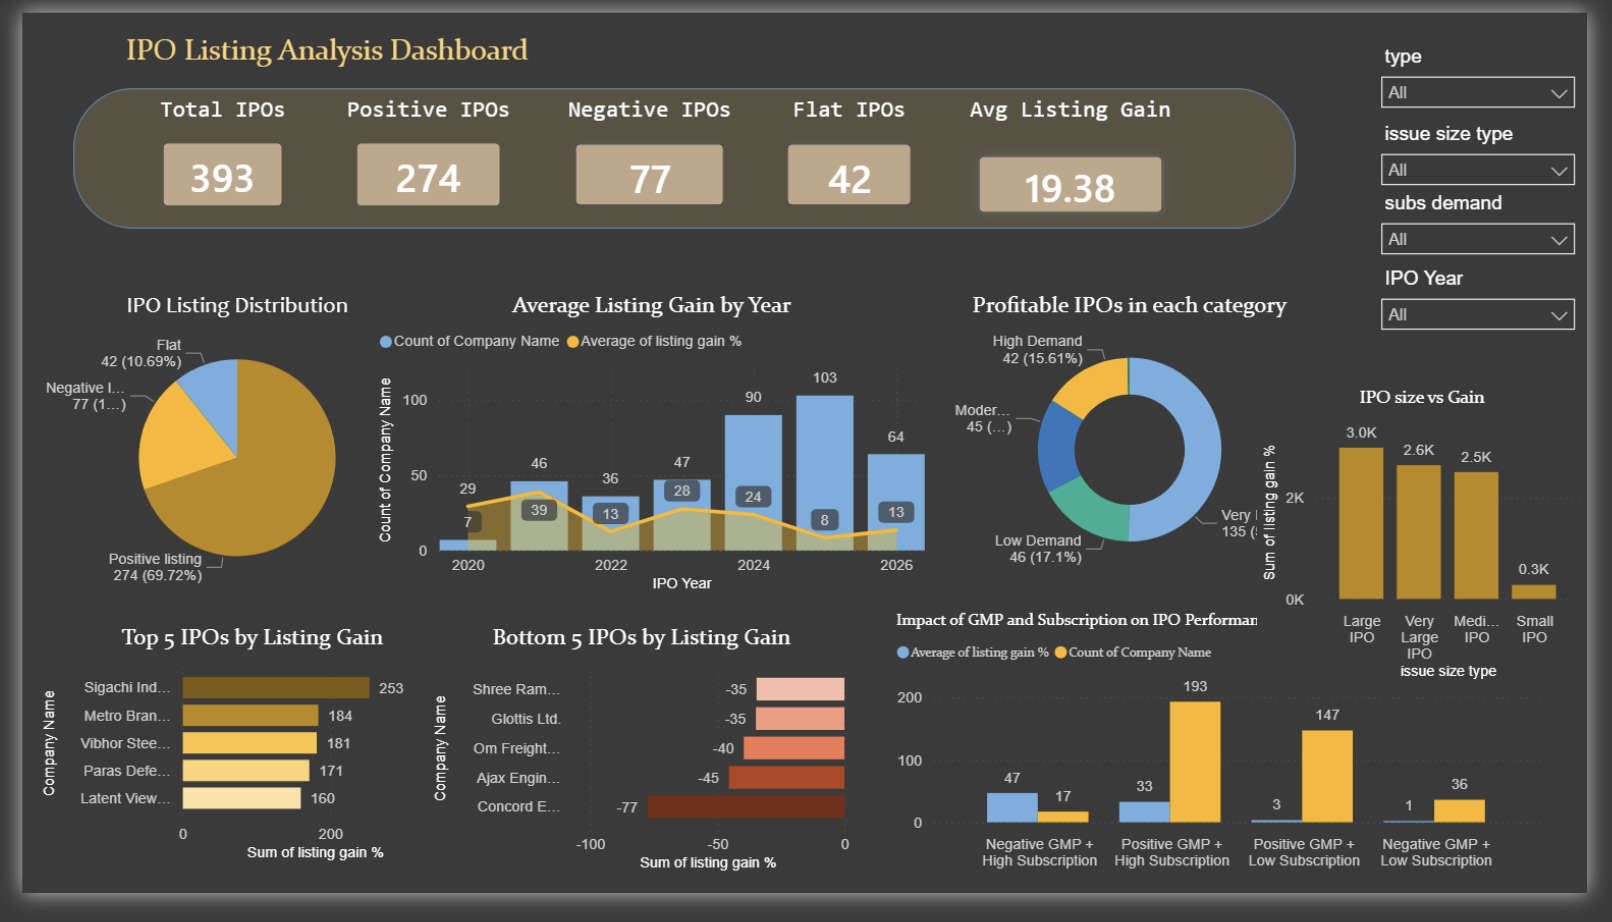

The page's visual inventory and layout, read from the dashboard file:
{"tool":"powerbi","page":{"name":"Page 1","canvas":[1280,720],"ordinal":0},"visuals":[{"type":"shape","box":[41.7,61.7,1000,115],"z":0},{"type":"cardVisual","title":"Total IPOs","fields":{"Data":["Count(IPO_Ana - mainboard_ipos_2025_2026_filter.Company Name)"]},"box":[98.3,68.3,131.7,106.7],"z":1000},{"type":"cardVisual","title":"Avg Listing Gain","fields":{"Data":["IPO_Ana - mainboard_ipos_2025_2026_filter.Average Listing Gain"]},"box":[755,68.3,205,123.3],"z":2000},{"type":"cardVisual","title":"Positive IPOs","fields":{"Data":["IPO_Ana - mainboard_ipos_2025_2026_filter.Positive IPOs"]},"box":[256.7,68.3,151.7,106.7],"z":3000},{"type":"cardVisual","title":"Negative IPOs","fields":{"Data":["IPO_Ana - mainboard_ipos_2025_2026_filter.Negative IPOs"]},"box":[435,68.3,156.7,106.7],"z":4000},{"type":"cardVisual","title":"Flat IPOs","fields":{"Data":["IPO_Ana - mainboard_ipos_2025_2026_filter.Flat IPOs"]},"box":[608.3,68.3,136.7,106.7],"z":5000},{"type":"pieChart","title":"IPO Listing Distribution ","fields":{"Category":["IPO_Ana - mainboard_ipos_2025_2026_filter.type"],"Y":["CountNonNull(IPO_Ana - mainboard_ipos_2025_2026_filter.Company Name)"]},"box":[11.7,226.7,328.3,251.7],"z":5001},{"type":"lineStackedColumnComboChart","title":"Average Listing Gain by Year","fields":{"Category":["IPO_Ana - mainboard_ipos_2025_2026_filter.IPO Year"],"Y":["CountNonNull(IPO_Ana - mainboard_ipos_2025_2026_filter.Company Name)"],"Y2":["Avg(IPO_Ana - mainboard_ipos_2025_2026_filter.listing gain %)"]},"box":[286.7,226.7,456.7,251.7],"z":5002},{"type":"barChart","title":"Top 5 IPOs by Listing Gain","fields":{"Category":["IPO_Ana - mainboard_ipos_2025_2026_filter.Company Name"],"Y":["Sum(IPO_Ana - mainboard_ipos_2025_2026_filter.listing gain %)"]},"box":[11.7,498.3,353.3,200],"z":5004},{"type":"barChart","title":"Bottom 5 IPOs by Listing Gain","fields":{"Category":["IPO_Ana - mainboard_ipos_2025_2026_filter.Company Name"],"Y":["Sum(IPO_Ana - mainboard_ipos_2025_2026_filter.listing gain %)"]},"box":[331.7,498.3,350,208.3],"z":5005},{"type":"donutChart","title":"Profitable IPOs in each category","fields":{"Category":["IPO_Ana - mainboard_ipos_2025_2026_filter.subs demand"],"Y":["Count(IPO_Ana - mainboard_ipos_2025_2026_filter.listing gain %)"]},"box":[755,226.7,301.7,238.3],"z":5006},{"type":"clusteredColumnChart","title":"Impact of GMP and Subscription on IPO Performance","fields":{"Category":["IPO_Ana - mainboard_ipos_2025_2026_filter.gmp+subs"],"Y":["Avg(IPO_Ana - mainboard_ipos_2025_2026_filter.listing gain %)","CountNonNull(IPO_Ana - mainboard_ipos_2025_2026_filter.Company Name)"]},"box":[710,488.3,538.3,220],"z":5007},{"type":"columnChart","title":"IPO size vs Gain","fields":{"Category":["IPO_Ana - mainboard_ipos_2025_2026_filter.issue size type"],"Y":["Sum(IPO_Ana - mainboard_ipos_2025_2026_filter.listing gain %)"]},"box":[1010,305,270,245],"z":5008},{"type":"slicer","fields":{"Values":["IPO_Ana - mainboard_ipos_2025_2026_filter.type"]},"box":[1101.7,21.7,178.3,80],"z":5009},{"type":"slicer","fields":{"Values":["IPO_Ana - mainboard_ipos_2025_2026_filter.issue size type"]},"box":[1101.7,85,178.3,70],"z":5010},{"type":"slicer","fields":{"Values":["IPO_Ana - mainboard_ipos_2025_2026_filter.subs demand"]},"box":[1101.7,141.7,178.3,66.7],"z":5011},{"type":"slicer","fields":{"Values":["IPO_Ana - mainboard_ipos_2025_2026_filter.IPO Year"]},"box":[1101.7,203.3,178.3,75],"z":5012},{"type":"textbox","box":[80,10,353.3,41.7],"z":5013}]}

Visuals, with their boxes in screenshot pixels (x1, y1, x2, y2), scaled from the page's 1280x720 canvas onto the 1612x922 screenshot:
shape: Rect(53, 79, 1312, 226)
"Total IPOs" cardVisual: Rect(124, 87, 290, 224)
"Avg Listing Gain" cardVisual: Rect(951, 87, 1209, 245)
"Positive IPOs" cardVisual: Rect(323, 87, 514, 224)
"Negative IPOs" cardVisual: Rect(548, 87, 745, 224)
"Flat IPOs" cardVisual: Rect(766, 87, 938, 224)
"IPO Listing Distribution " pieChart: Rect(15, 290, 428, 613)
"Average Listing Gain by Year" lineStackedColumnComboChart: Rect(361, 290, 936, 613)
"Top 5 IPOs by Listing Gain" barChart: Rect(15, 638, 460, 894)
"Bottom 5 IPOs by Listing Gain" barChart: Rect(418, 638, 859, 905)
"Profitable IPOs in each category" donutChart: Rect(951, 290, 1331, 595)
"Impact of GMP and Subscription on IPO Performance" clusteredColumnChart: Rect(894, 625, 1572, 907)
"IPO size vs Gain" columnChart: Rect(1272, 391, 1611, 704)
slicer - IPO_Ana - mainboard_ipos_2025_2026_filter.type: Rect(1387, 28, 1611, 130)
slicer - IPO_Ana - mainboard_ipos_2025_2026_filter.issue size type: Rect(1387, 109, 1611, 198)
slicer - IPO_Ana - mainboard_ipos_2025_2026_filter.subs demand: Rect(1387, 181, 1611, 267)
slicer - IPO_Ana - mainboard_ipos_2025_2026_filter.IPO Year: Rect(1387, 260, 1611, 356)
textbox: Rect(101, 13, 546, 66)
